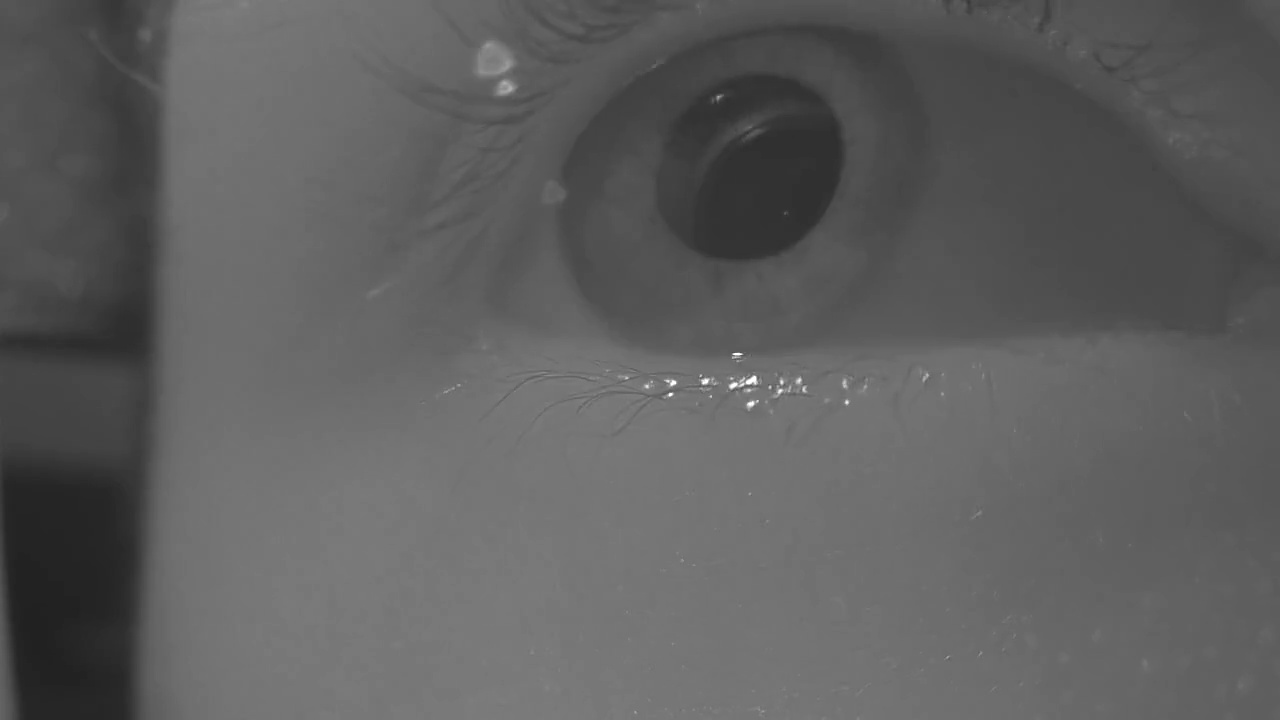pupil: (656, 74, 844, 260)
